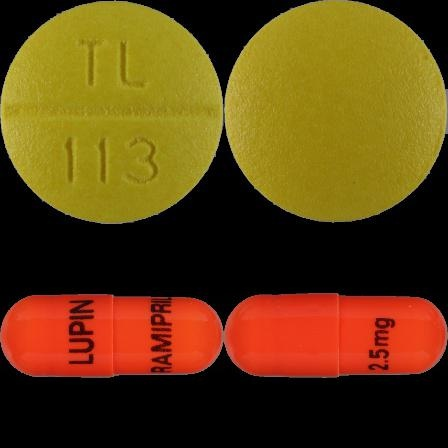63187-502: (0, 0, 224, 224)
